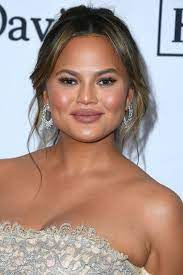eye: (59, 74, 77, 87), (96, 77, 116, 88)
mouth: (70, 107, 104, 124)
nose: (78, 79, 97, 103)
